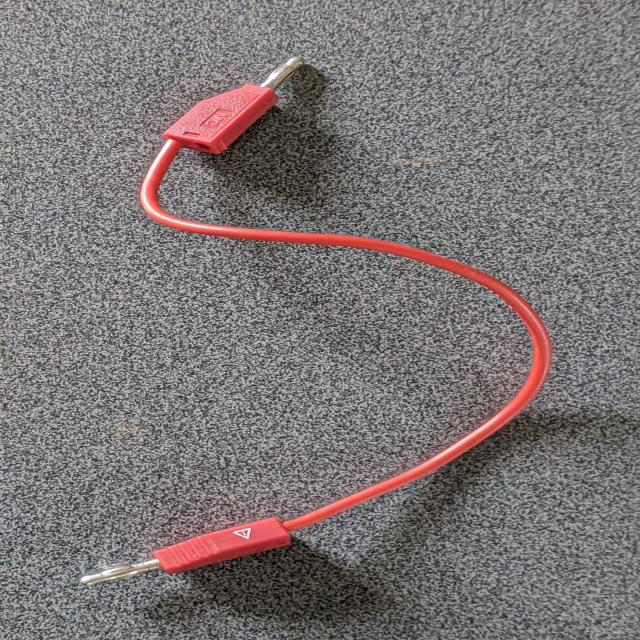BNC Cable: (81, 46, 558, 600)
